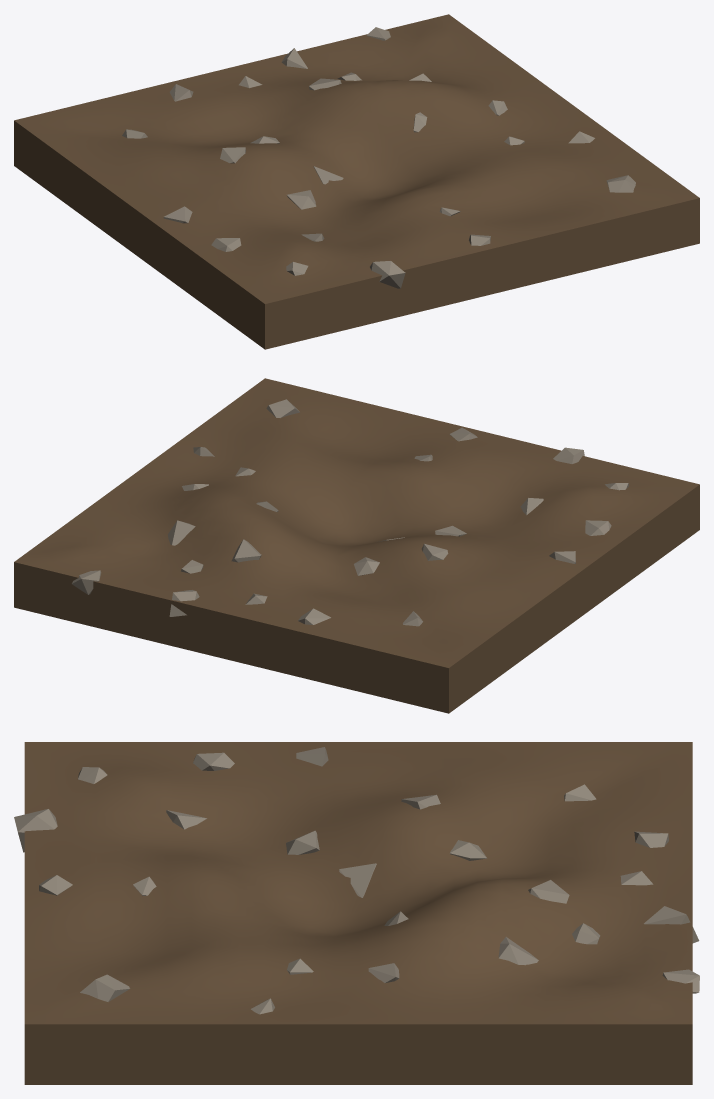
The model's file is terrain_stones.glb.
3 views of the same model, one above another, from view 1: azimuth 30°, elevation 25°; view 2: azimuth 150°, elevation 25°; view 3: azimuth 270°, elevation 25° (orthographic). The views are drawn at different scales.
Visible parts, largest first — view 1: ground, stone; view 2: ground, stone; view 3: ground, stone.
Part boxes in pixels (bbox=[...]): ground: bbox=[14, 14, 699, 349]; stone: bbox=[122, 27, 635, 288]; ground: bbox=[14, 378, 699, 713]; stone: bbox=[72, 399, 628, 626]; ground: bbox=[24, 742, 692, 1084]; stone: bbox=[14, 747, 699, 1014].
Size of the model in its own units: 0.8 by 0.1231 by 0.8216.
